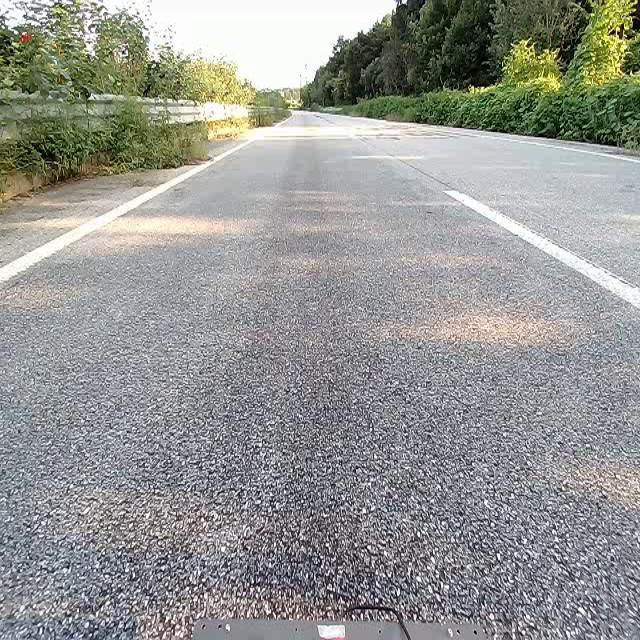Lane: (0, 132, 262, 285), (0, 140, 254, 285), (443, 184, 640, 316), (444, 190, 639, 309)
